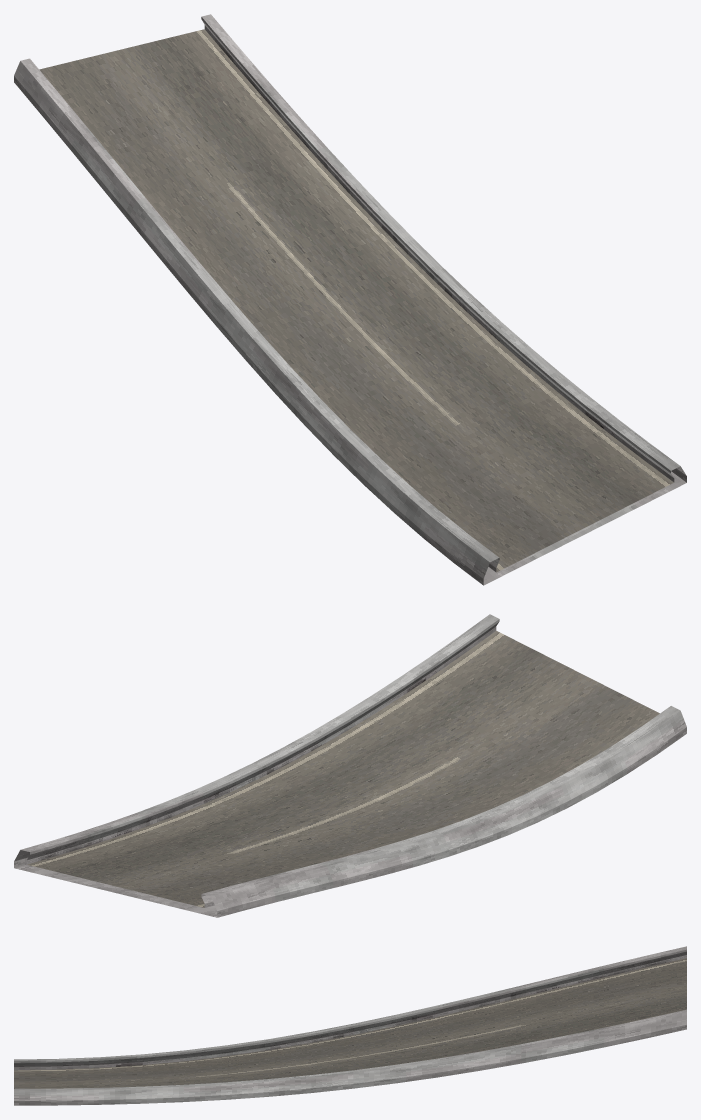
The model's file is straight4.glb.
The picture shows the model from 3 angles, top to bottom: view 1: azimuth 30°, elevation 25°; view 2: azimuth 150°, elevation 25°; view 3: azimuth 270°, elevation 25°; orthographic projection. The views are drawn at different scales.
Visible parts, largest first — view 1: road-Straight-HalfBankedLeft-BiSlopeUp-Up3-Center-Size4; view 2: road-Straight-HalfBankedLeft-BiSlopeUp-Up3-Center-Size4; view 3: road-Straight-HalfBankedLeft-BiSlopeUp-Up3-Center-Size4.
Boxes of the visible parts, x1,y1,x2,y2 form: road-Straight-HalfBankedLeft-BiSlopeUp-Up3-Center-Size4: (14, 14, 686, 585); road-Straight-HalfBankedLeft-BiSlopeUp-Up3-Center-Size4: (14, 614, 686, 917); road-Straight-HalfBankedLeft-BiSlopeUp-Up3-Center-Size4: (14, 946, 686, 1105).
Size of the model in its own units: 1 by 0.8437 by 4.
Materials: 2 (2 with a texture image).
